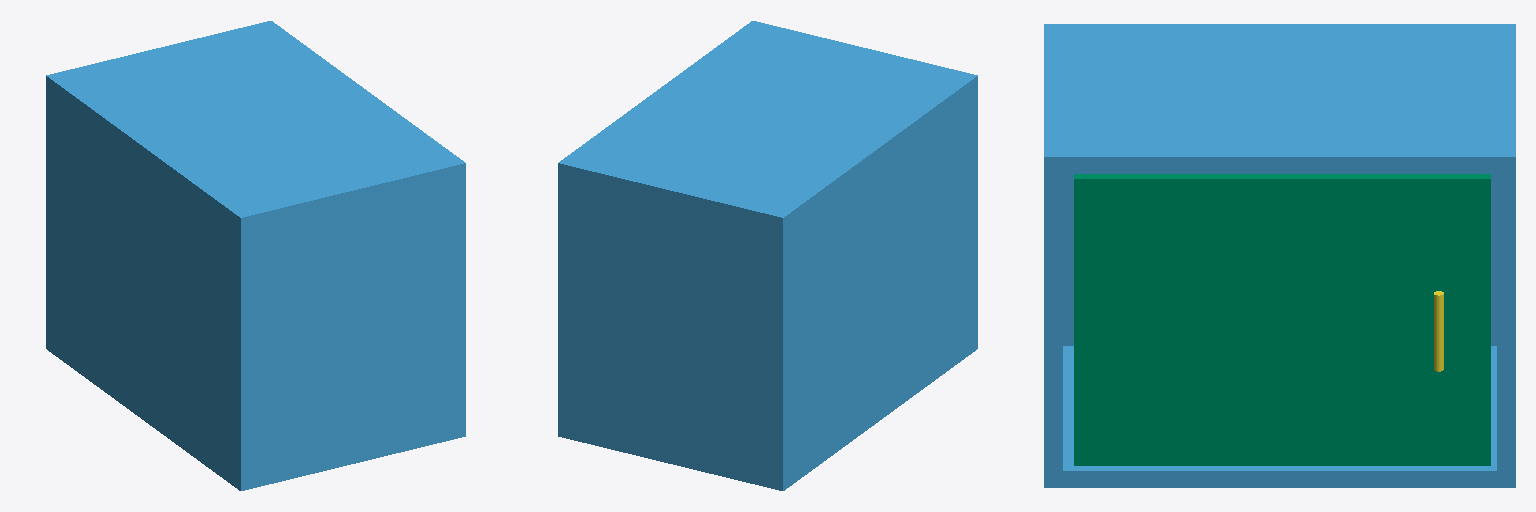
URDF robot description (my_cabinet):
<?xml version="1.0" ?>
<robot name="my_cabinet">
	<link name="world"/>
	<joint name="virtual_joint" type="fixed">
		<parent link="world"/>
		<child link="base_cabinet_link"/>
		<origin xyz="0.0 0.0 0.0" rpy="0.0 0.0 0.0"/>
	</joint>
	<link name="base_cabinet_link">
		<visual>
			<origin xyz="0.0 -0.0025 -0.16486262980253066" rpy="0.0 0.0 0.0"/>
			<geometry>
				<box size="0.3 0.4489861482253214 0.018"/>
			</geometry>
		</visual>
		<collision name="base_cabinet_link_collision_0">
			<origin xyz="0.0 -0.0025 -0.16486262980253066" rpy="0.0 0.0 0.0"/>
			<geometry>
				<box size="0.3 0.4489861482253214 0.018"/>
			</geometry>
		</collision>
		<visual>
			<origin xyz="0.0 0.21299307411266072 0.0" rpy="0.0 0.0 0.0"/>
			<geometry>
				<box size="0.3 0.018 0.34772525960506134"/>
			</geometry>
		</visual>
		<collision name="base_cabinet_link_collision_1">
			<origin xyz="0.0 0.21299307411266072 0.0" rpy="0.0 0.0 0.0"/>
			<geometry>
				<box size="0.3 0.018 0.34772525960506134"/>
			</geometry>
		</collision>
		<visual>
			<origin xyz="0.0 -0.21799307411266072 0.0" rpy="0.0 0.0 0.0"/>
			<geometry>
				<box size="0.3 0.018 0.34772525960506134"/>
			</geometry>
		</visual>
		<collision name="base_cabinet_link_collision_2">
			<origin xyz="0.0 -0.21799307411266072 0.0" rpy="0.0 0.0 0.0"/>
			<geometry>
				<box size="0.3 0.018 0.34772525960506134"/>
			</geometry>
		</collision>
		<visual>
			<origin xyz="0.0 -0.0025 0.16486262980253066" rpy="0.0 0.0 0.0"/>
			<geometry>
				<box size="0.3 0.4489861482253214 0.018"/>
			</geometry>
		</visual>
		<collision name="base_cabinet_link_collision_3">
			<origin xyz="0.0 -0.0025 0.16486262980253066" rpy="0.0 0.0 0.0"/>
			<geometry>
				<box size="0.3 0.4489861482253214 0.018"/>
			</geometry>
		</collision>
		<visual>
			<origin xyz="-0.141 -0.0025 0.0" rpy="0.0 0.0 0.0"/>
			<geometry>
				<box size="0.018 0.4489861482253214 0.34772525960506134"/>
			</geometry>
		</visual>
		<collision name="base_cabinet_link_collision_4">
			<origin xyz="-0.141 -0.0025 0.0" rpy="0.0 0.0 0.0"/>
			<geometry>
				<box size="0.018 0.4489861482253214 0.34772525960506134"/>
			</geometry>
		</collision>
		<inertial>
			<mass value="0.200000"/>
			<inertia ixx="0.005375" ixy="0.0" ixz="0.0" iyy="0.003515" iyz="0.0" izz="0.004860"/>
		</inertial>
	</link>
	<link name="door_link">
		<visual>
			<origin xyz="0.0 -0.1989930741126607 0.0"/>
			<geometry>
				<box size="0.018 0.3979861482253214 0.3017252596050613"/>
			</geometry>
		</visual>
		<collision name="door_link_collision">
			<origin xyz="0.0 -0.1989930741126607 0.0"/>
			<geometry>
				<box size="0.018 0.3979861482253214 0.3017252596050613"/>
			</geometry>
		</collision>
		<inertial>
			<mass value="0.200000"/>
			<inertia ixx="0.004157" ixy="0.0" ixz="0.0" iyy="0.001523" iyz="0.0" izz="0.002645"/>
		</inertial>
	</link>
	<joint name="door_joint" type="revolute">
		<origin xyz="0.141 -0.1989930741126607 0.0" rpy="0.000000 -0.000000 3.141593"/>
		<axis xyz="0 0 1"/>
		<parent link="base_cabinet_link"/>
		<child link="door_link"/>
		<limit effort="50" lower="-1.658062789394613" upper="0" velocity="10"/>
		<dynamics friction="3.5" damping="3.5"/>
	</joint>
	<link name="handle_link">
		<visual>
			<origin xyz="0.0 0.0 0.0" rpy="0.0 0.0 0.0"/>
			<geometry>
				<cylinder length="0.08" radius="0.005"/>
			</geometry>
		</visual>
		<collision name="handle_link_collision_0">
			<origin xyz="0.0 0.0 0.0" rpy="0.0 0.0 0.0"/>
			<geometry>
				<cylinder length="0.08" radius="0.005"/>
			</geometry>
		</collision>
		<visual>
			<origin xyz="-0.01 0.0 0.02" rpy="0.0 1.5707963267948966 0.0"/>
			<geometry>
				<cylinder length="0.02" radius="0.003"/>
			</geometry>
		</visual>
		<collision name="handle_link_collision_1">
			<origin xyz="-0.01 0.0 0.02" rpy="0.0 1.5707963267948966 0.0"/>
			<geometry>
				<cylinder length="0.01" radius="0.003"/>
			</geometry>
		</collision>
		<visual>
			<origin xyz="-0.01 0.0 -0.02" rpy="0.0 1.5707963267948966 0.0"/>
			<geometry>
				<cylinder length="0.02" radius="0.003"/>
			</geometry>
		</visual>
		<collision name="handle_link_collision_2">
			<origin xyz="-0.01 0.0 -0.02" rpy="0.0 1.5707963267948966 0.0"/>
			<geometry>
				<cylinder length="0.02" radius="0.003"/>
			</geometry>
		</collision>
		<inertial>
			<mass value="0.050000"/>
			<inertia ixx="0.000027" ixy="0.0" ixz="0.0" iyy="0.000029" iyz="0.0" izz="0.000003"/>
		</inertial>
	</link>
	<joint name="handle_joint" type="fixed">
		<origin xyz="-0.028999999999999998 -0.3479861482253214 0.0" rpy="0.000000 -0.000000 3.141593"/>
		<parent link="door_link"/>
		<child link="handle_link"/>
	</joint>
	<gazebo reference="base_cabinet_link">
		<sensor name="main_sensor" type="contact">
			<selfCollide>true</selfCollide>
			<alwaysOn>true</alwaysOn>
			<updateRate>5.0</updateRate>
			<material>Gazebo/Red</material>
			<contact>
				<collision>base_cabinet_link_collision_0_collision</collision>
				<collision>base_cabinet_link_collision_1_collision</collision>
				<collision>base_cabinet_link_collision_2_collision</collision>
				<collision>base_cabinet_link_collision_3_collision</collision>
				<collision>base_cabinet_link_collision_4_collision</collision>
			</contact>
			<plugin name="gazebo_ros_bumper_controller" filename="libgazebo_ros_bumper.so">
				<bumperTopicName>/contact</bumperTopicName>
				<frameName>world</frameName>
			</plugin>
		</sensor>
	</gazebo>
	<gazebo reference="door_link">
		<sensor name="main_sensor" type="contact">
			<selfCollide>true</selfCollide>
			<alwaysOn>true</alwaysOn>
			<updateRate>5.0</updateRate>
			<material>Gazebo/Red</material>
			<contact>
				<collision>door_link_collision_collision</collision>
			</contact>
			<plugin name="gazebo_ros_bumper_controller" filename="libgazebo_ros_bumper.so">
				<bumperTopicName>/contact_door</bumperTopicName>
				<frameName>contact_door</frameName>
			</plugin>
		</sensor>
	</gazebo>
	<gazebo reference="door_link">
		<mu>3.0</mu>
		<mu2>3.0</mu2>
		<kp>10000000</kp>
		<kd>100</kd>
	</gazebo>
</robot>

--- Facts derived from the render (not from the file) ---
3 views of the same robot in one strip: view 1: azimuth 30°, elevation 25°; view 2: azimuth 150°, elevation 25°; view 3: azimuth 270°, elevation 25° (orthographic).
Robot: my_cabinet — 4 links, 3 joints (1 revolute, 2 fixed); root link world; default pose: every joint at zero.
Visible links, largest first — view 1: base_cabinet_link; view 2: base_cabinet_link; view 3: door_link, base_cabinet_link, handle_link.
Boxes of the visible links, bbox=[...] form: base_cabinet_link: bbox=[46, 21, 465, 490]; base_cabinet_link: bbox=[558, 21, 977, 490]; door_link: bbox=[1074, 174, 1490, 465]; base_cabinet_link: bbox=[1044, 24, 1515, 487]; handle_link: bbox=[1434, 291, 1443, 371].
Size in the robot's own frame: 0.325 by 0.449 by 0.3477 metres.
Geometry: primitives only (box / cylinder / sphere), no mesh files.
